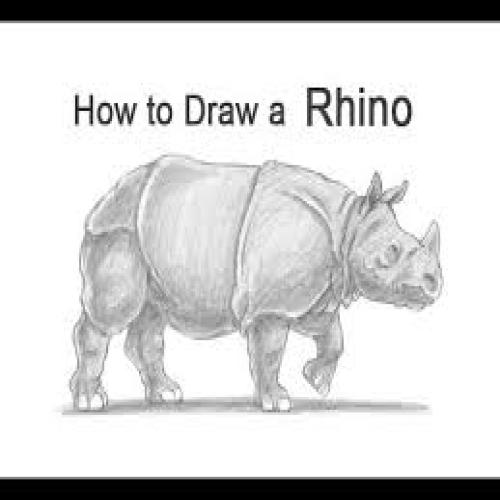rhino-endangered: (66, 153, 444, 413)
